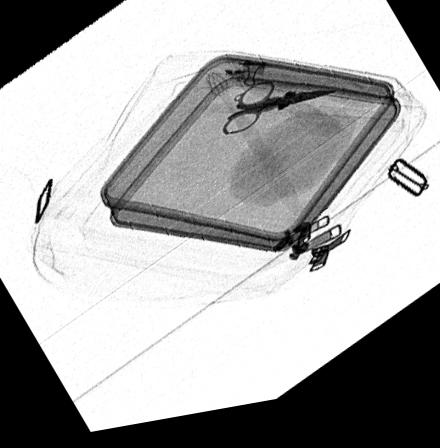Scissors: (221, 89, 337, 143)
